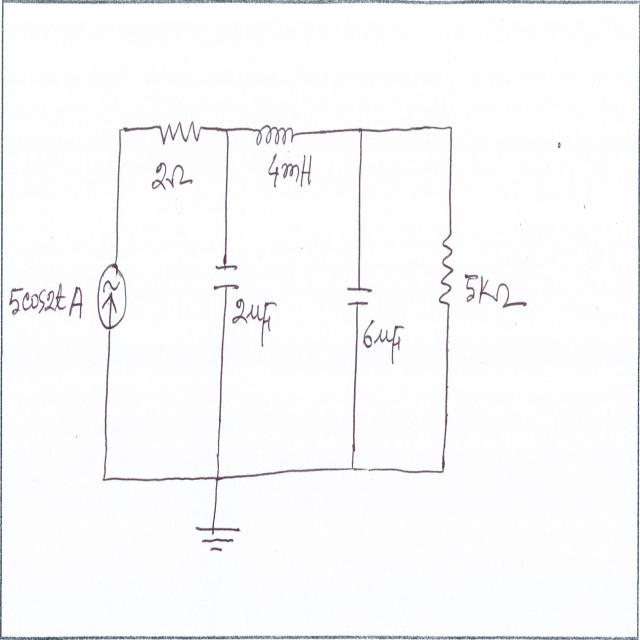capacitor: (212, 258, 242, 297), (344, 280, 377, 312)
current_source: (95, 255, 128, 334)
ground: (194, 515, 245, 558)
inductor: (252, 117, 296, 148)
resistor: (157, 107, 203, 152), (439, 232, 454, 313)
